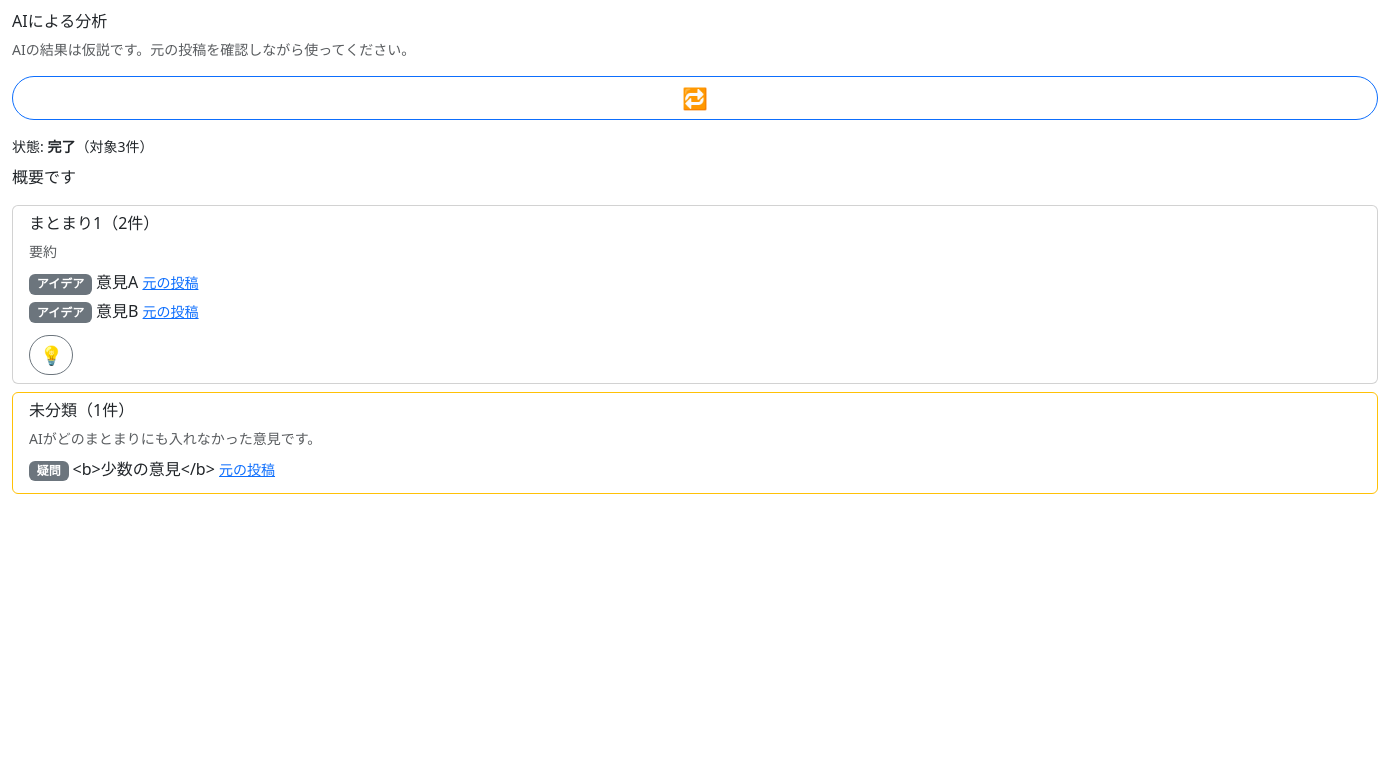
Test: AnalysisPanel › クラスタごとに案を作れる。案を作るAIが未設定なら、ボタンを出さない
Click the button named "共通点・相違点を考える" at (51, 355), box [29, 335, 73, 375]
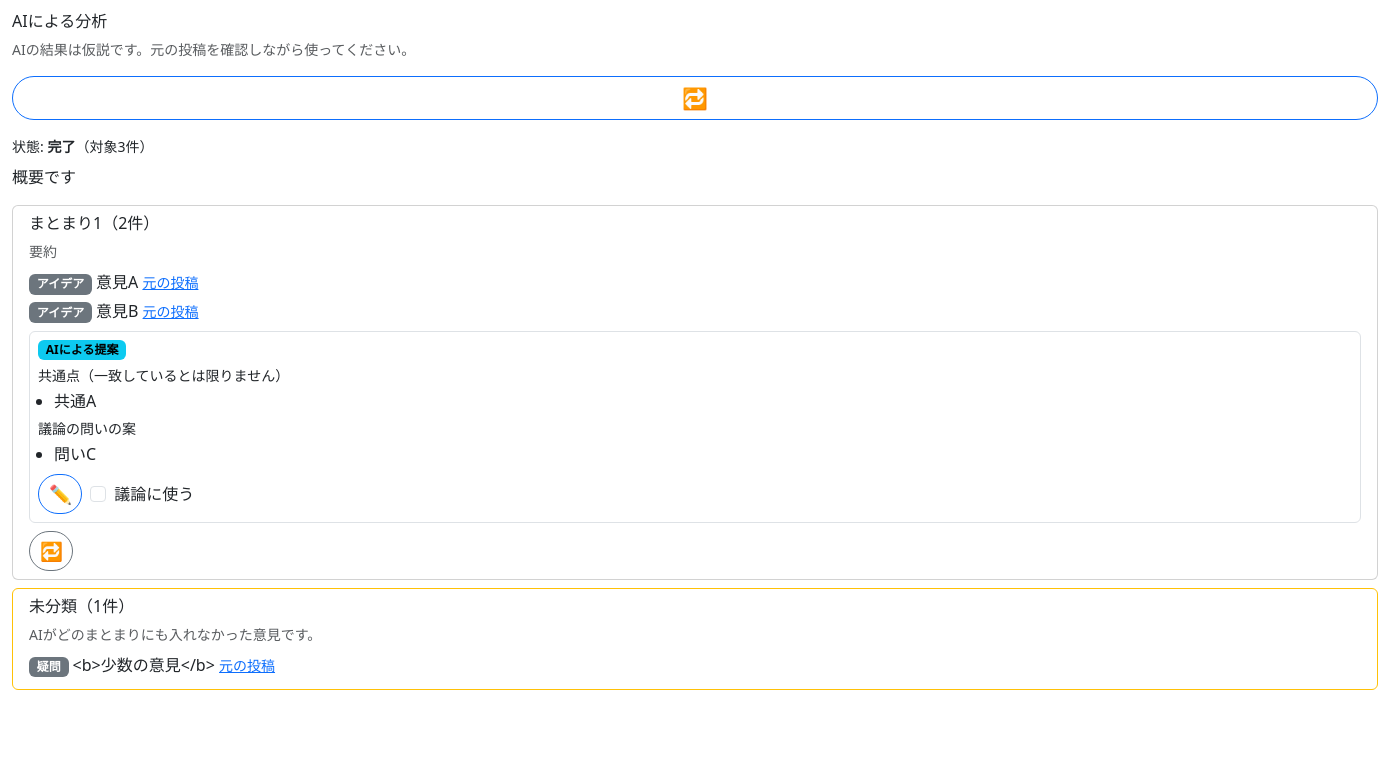
Result: the list item "共通A" is shown at [54, 390, 96, 412]
